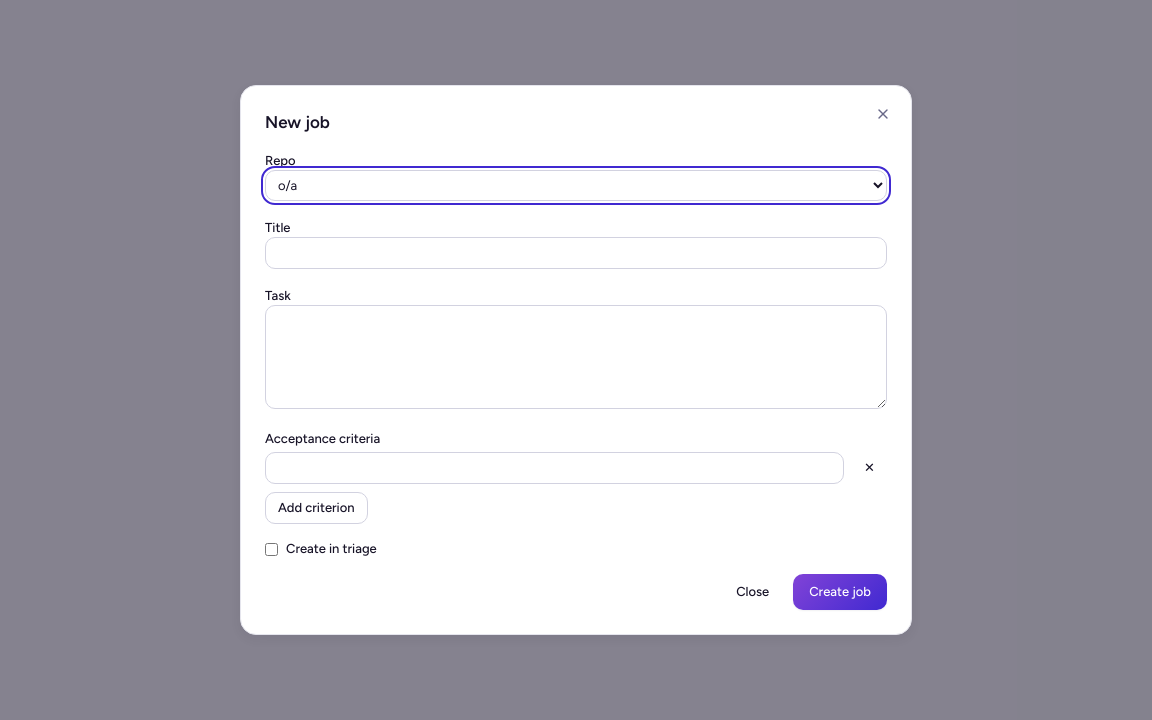
Test: NewJobDialog › adds and removes criteria rows
Expected: the number of fields named "Criterion 1" is 1, [265, 452, 844, 484]
Click the button "Add criterion" at {"x": 316, "y": 508}, box [265, 492, 368, 524]
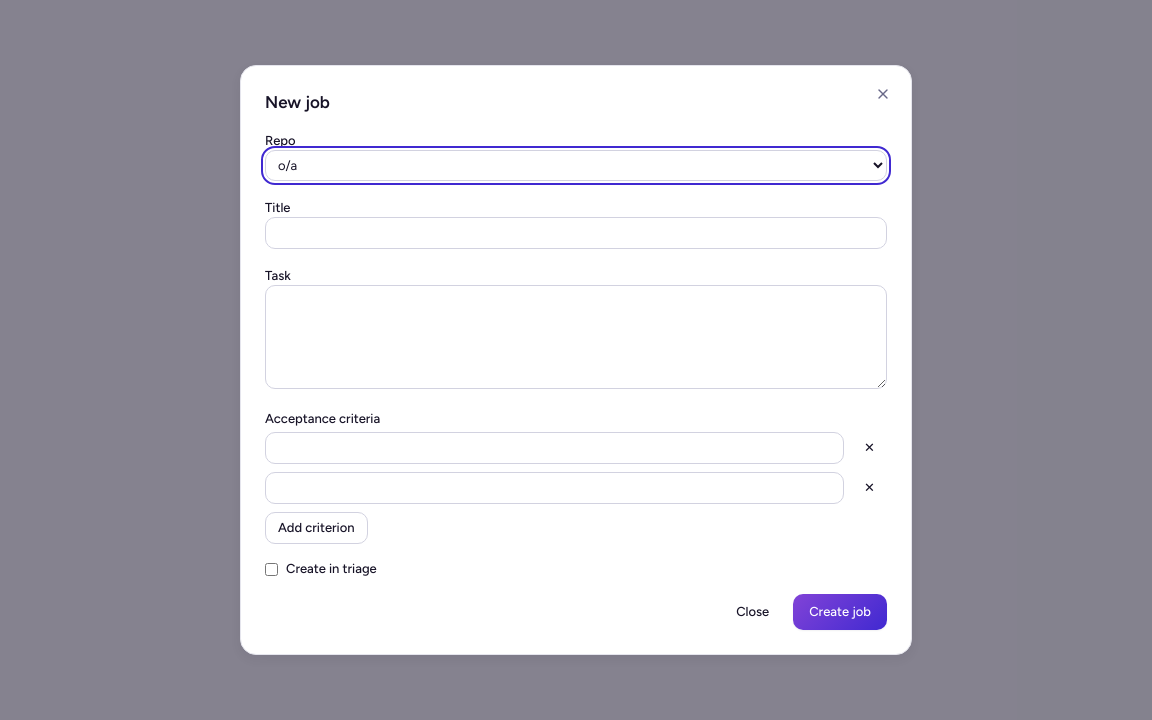
Click the button "Add criterion" at {"x": 316, "y": 528}, box [265, 512, 368, 544]
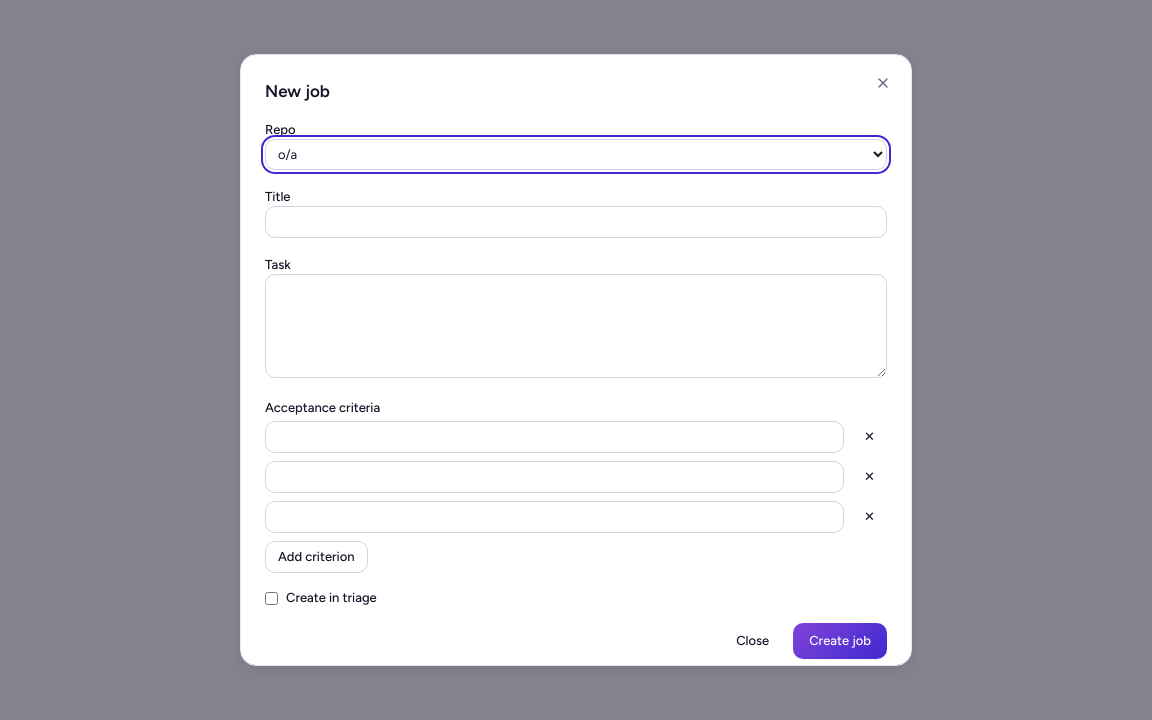
Now the number of fields named "Criterion 1" is 3, box [265, 421, 844, 453]; [265, 461, 844, 493]; [265, 501, 844, 533]
Click the button named "Remove criterion 2" at {"x": 870, "y": 477}, box [852, 461, 887, 493]
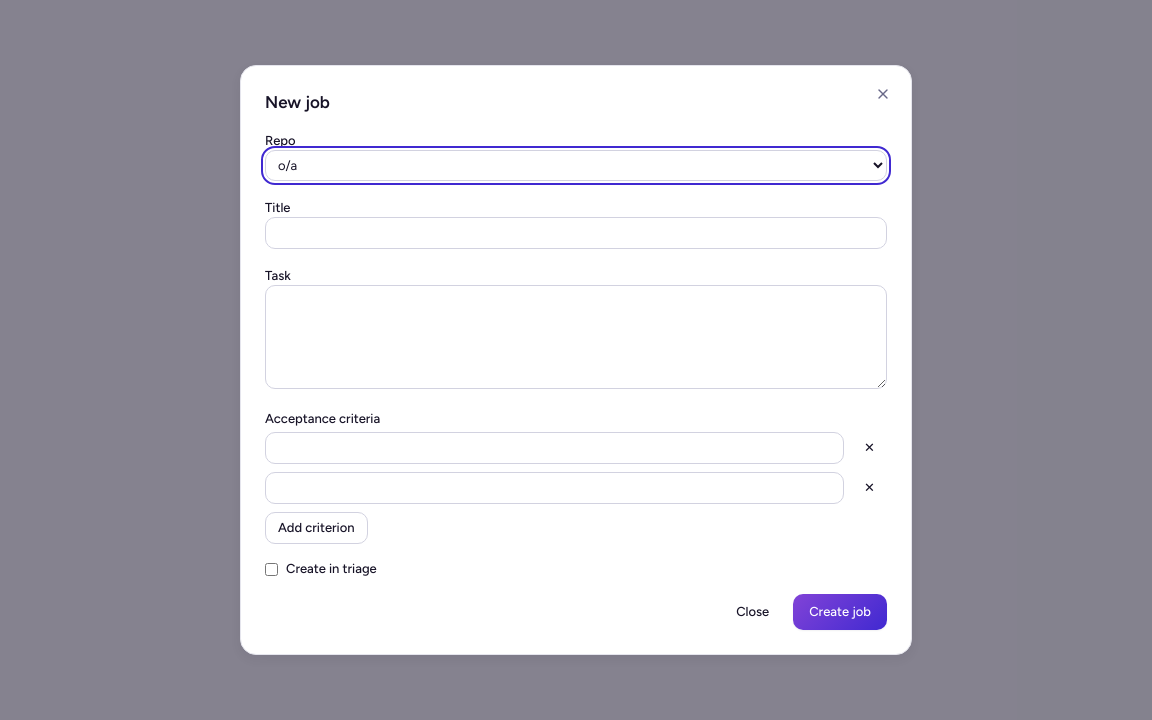
Now the number of fields named "Criterion 1" is 2, box [265, 432, 844, 464]; [265, 472, 844, 504]
